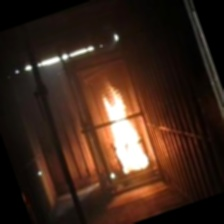fire: (88, 69, 160, 179)
